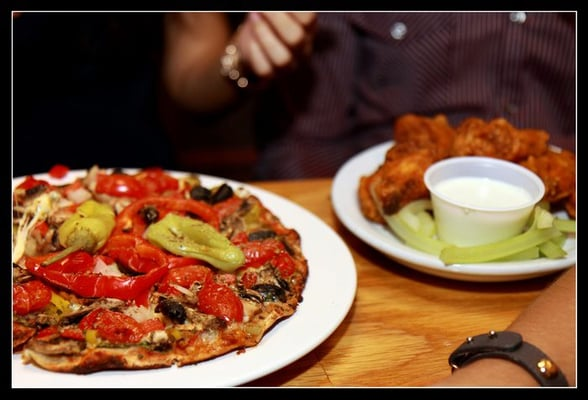pizza: (423, 155, 546, 247)
salad: (448, 330, 569, 386)
